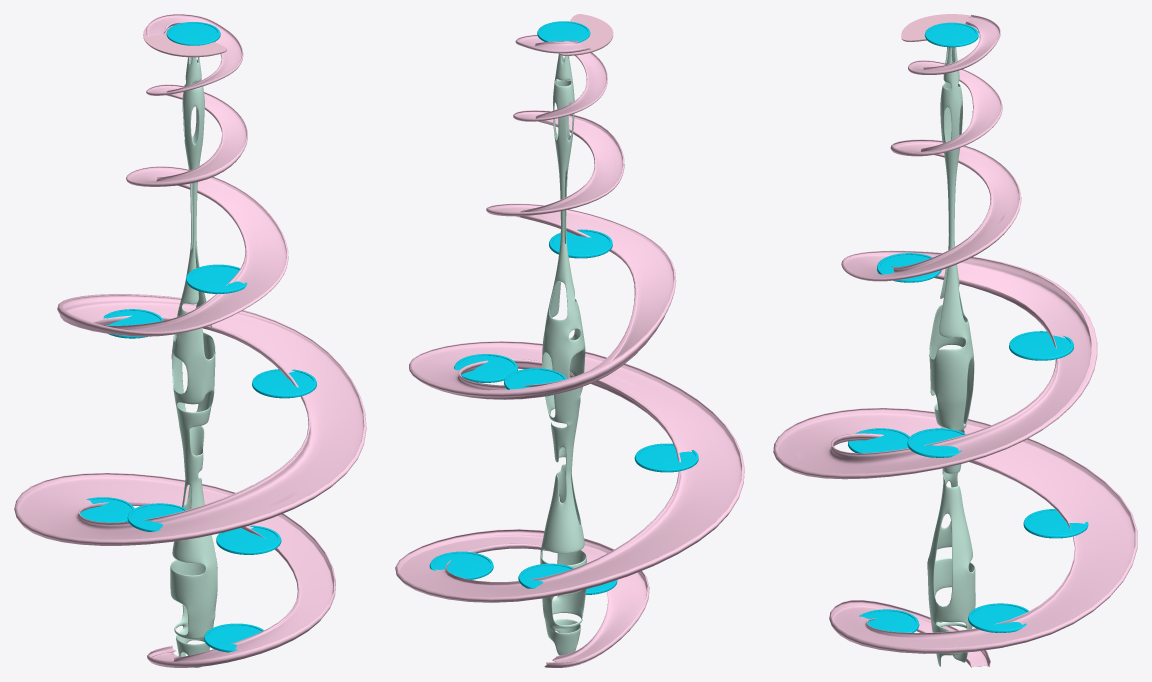
Rendered from Uniqueverse-mechanisms-blendered-missing3.fbx.
3 views of the same model, side by side, from view 1: azimuth 30°, elevation 25°; view 2: azimuth 150°, elevation 25°; view 3: azimuth 270°, elevation 25° (orthographic).
Parts seen in each view (by area): view 1: s.001, s.0005, s.0065, s.0079, s.0080; view 2: s.001, s.0005, s.0065, s.0079, s.0080; view 3: s.001, s.0005, s.0065, s.0079, s.0080.
Boxes of the visible parts, <box> form: s.001: <box>14,14,366,667</box>; s.0005: <box>170,57,217,667</box>; s.0065: <box>80,23,316,652</box>; s.0079: <box>86,22,316,651</box>; s.0080: <box>143,26,226,57</box>; s.001: <box>395,34,744,667</box>; s.0005: <box>540,54,586,655</box>; s.0065: <box>433,22,698,594</box>; s.0079: <box>429,21,698,594</box>; s.0080: <box>559,14,613,55</box>; s.001: <box>773,14,1137,667</box>; s.0005: <box>927,47,975,666</box>; s.0065: <box>848,24,1087,632</box>; s.0079: <box>848,22,1088,632</box>; s.0080: <box>901,14,978,41</box>.
Bounding box in the file's own units: 4530 × 9129 × 4734.
